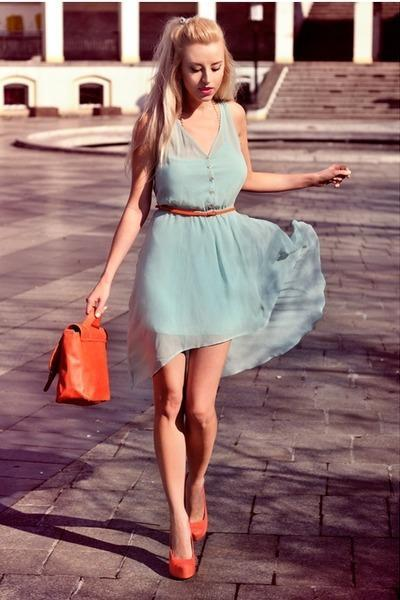bag: (60, 317, 109, 400)
dress: (110, 127, 329, 395)
shoe: (159, 512, 204, 580)
